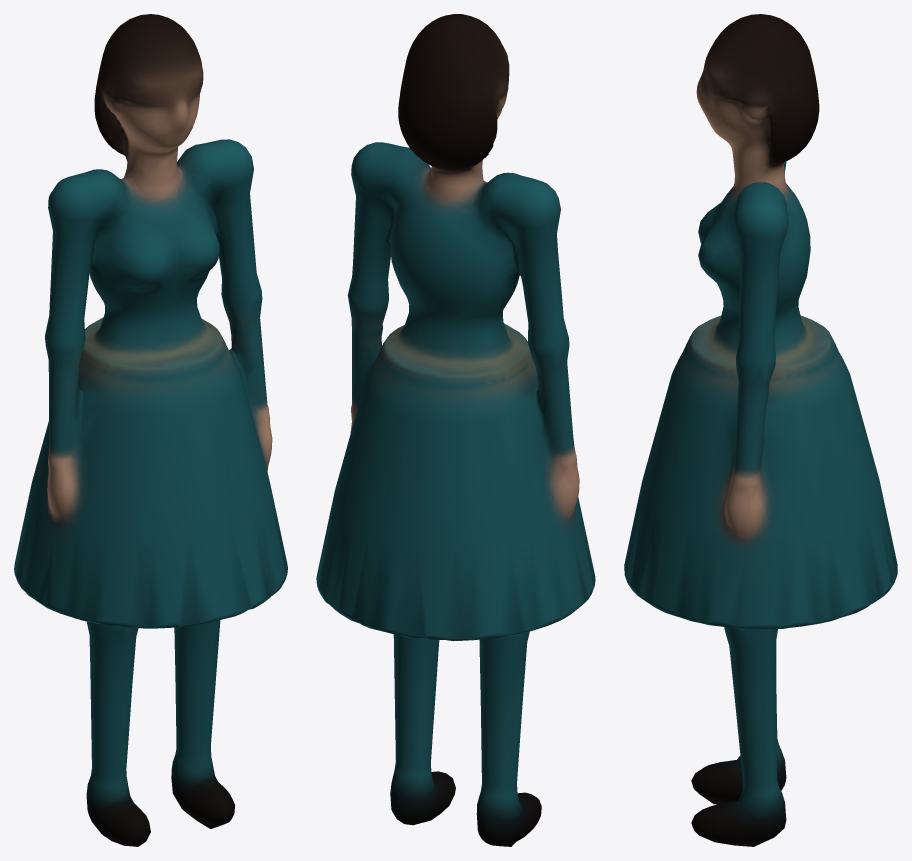
Rendered from lumiere-npc-receptionist.glb.
The picture shows the model from 3 angles, left to right: view 1: azimuth 30°, elevation 25°; view 2: azimuth 150°, elevation 25°; view 3: azimuth 270°, elevation 25°; orthographic projection.
Parts seen in each view (by area): view 1: lumiere-npc-receptionist_LOD0; view 2: lumiere-npc-receptionist_LOD0; view 3: lumiere-npc-receptionist_LOD0.
Boxes of the visible parts, <box> form: lumiere-npc-receptionist_LOD0: <box>14,14,287,846</box>; lumiere-npc-receptionist_LOD0: <box>316,14,595,846</box>; lumiere-npc-receptionist_LOD0: <box>624,14,897,846</box>.
Size of what is drawn, in the model's own units: 0.523 by 1.7 by 0.5233.
